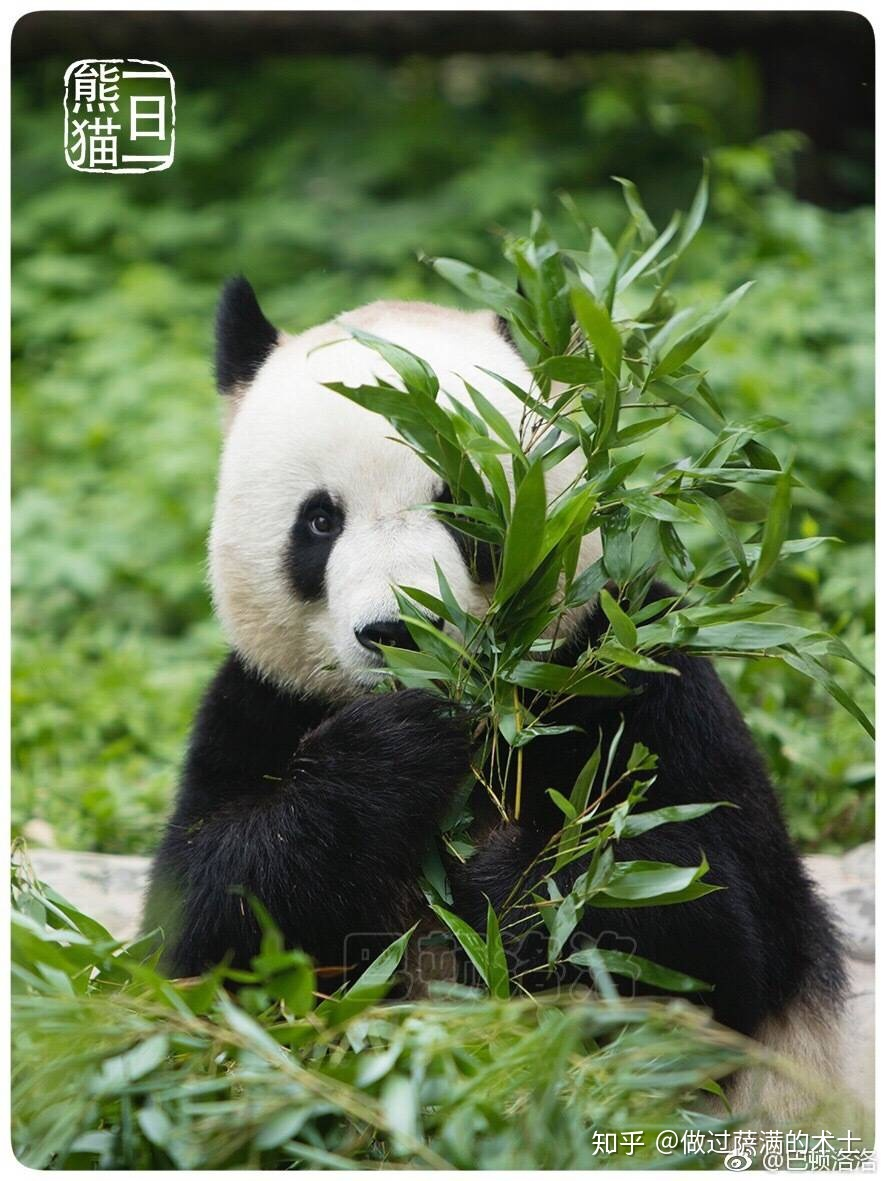panda: (119, 252, 865, 1061)
